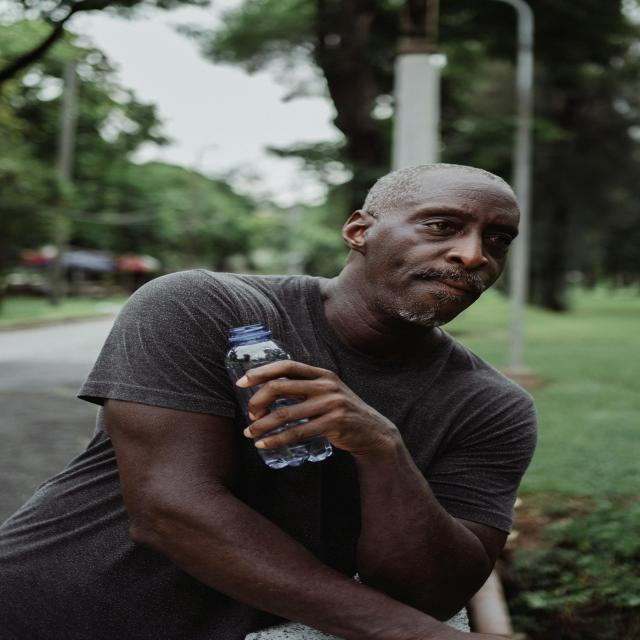bottle: (227, 324, 341, 469)
